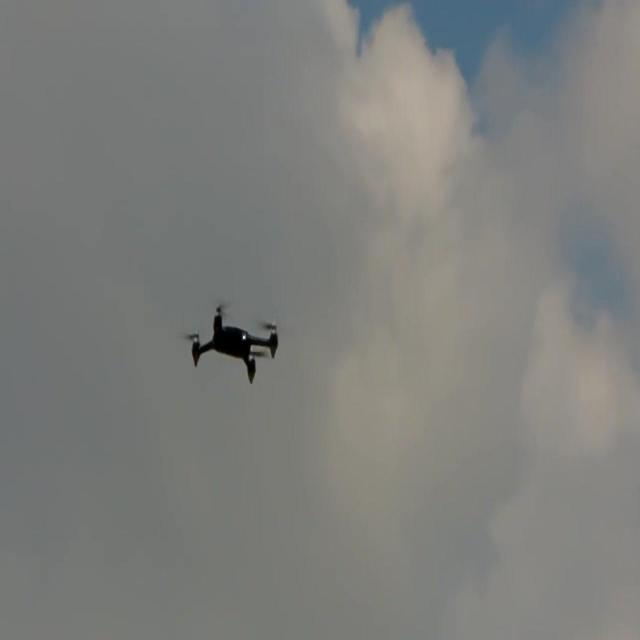UAV: (186, 298, 280, 388)
